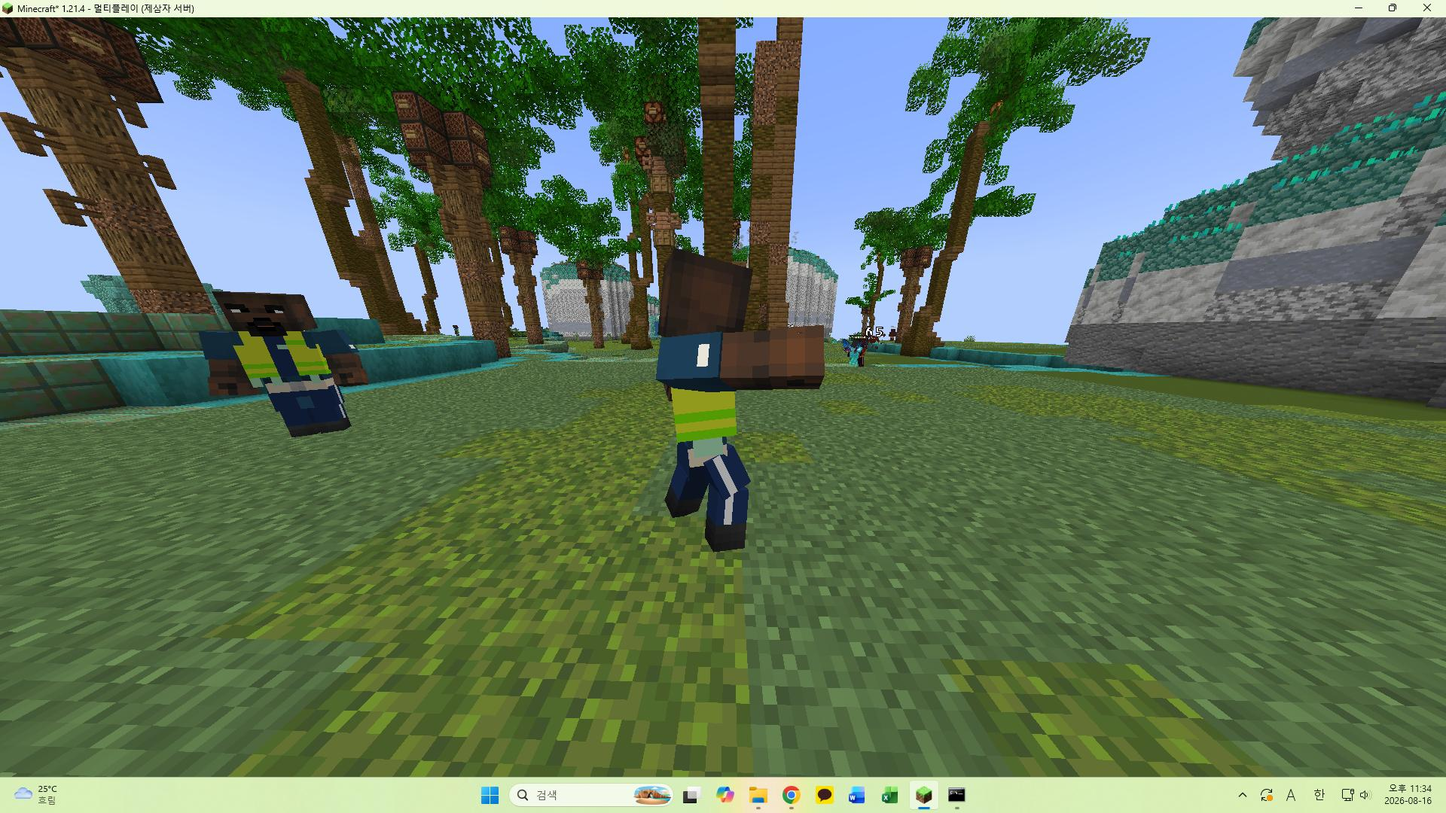Guardian: (656, 251, 825, 552), (200, 292, 368, 437)
